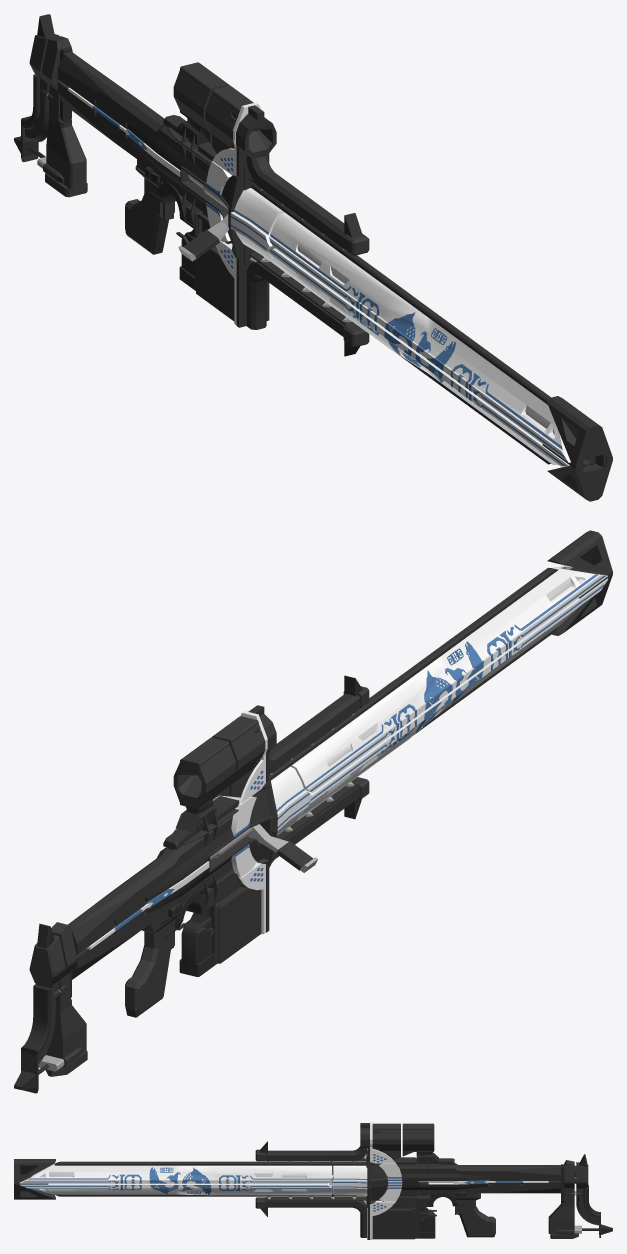
The model's file is izanagis.glb.
3 views of the same model, one above another, from view 1: azimuth 30°, elevation 25°; view 2: azimuth 150°, elevation 25°; view 3: azimuth 270°, elevation 25° (orthographic). The views are drawn at different scales.
Size of the model in its own units: 0.1398 by 0.3268 by 1.58.
